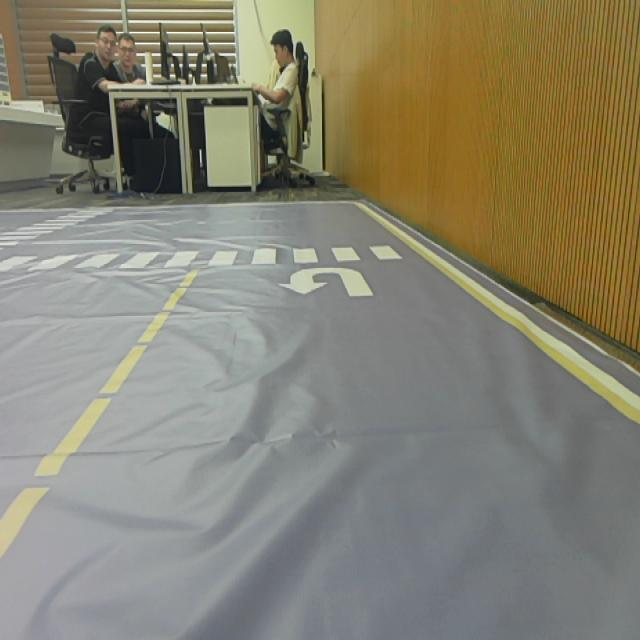left_lane: (0, 270, 200, 561)
right_lane: (358, 203, 640, 424)
